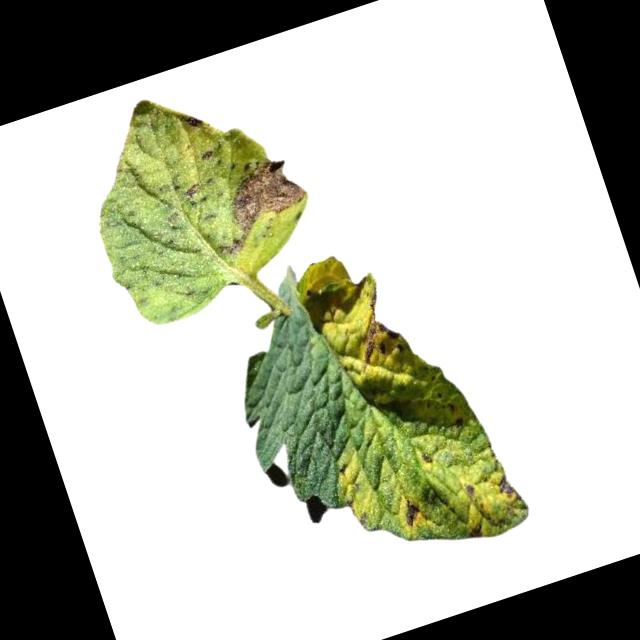Early_blight: (199, 148, 319, 259), (347, 289, 414, 368), (397, 497, 428, 533), (177, 105, 206, 133), (493, 475, 520, 503), (184, 179, 204, 200)
